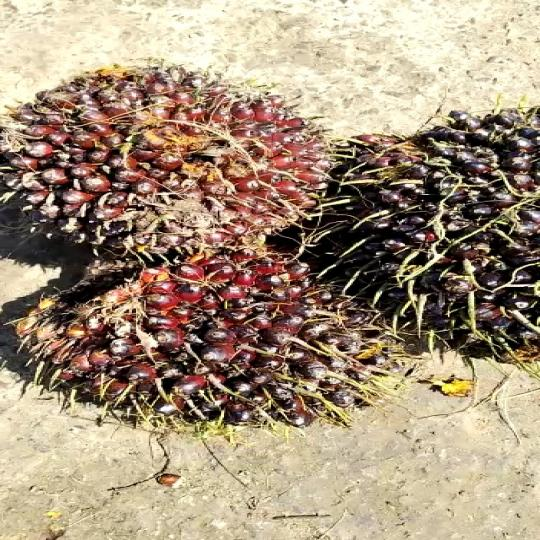kurang masak: (30, 252, 378, 444), (335, 86, 540, 371), (22, 60, 332, 242)
